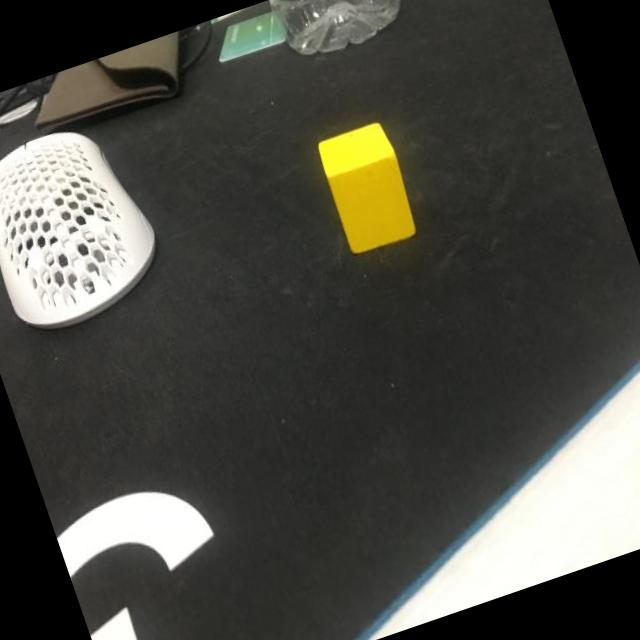yellow: (314, 119, 422, 256)
